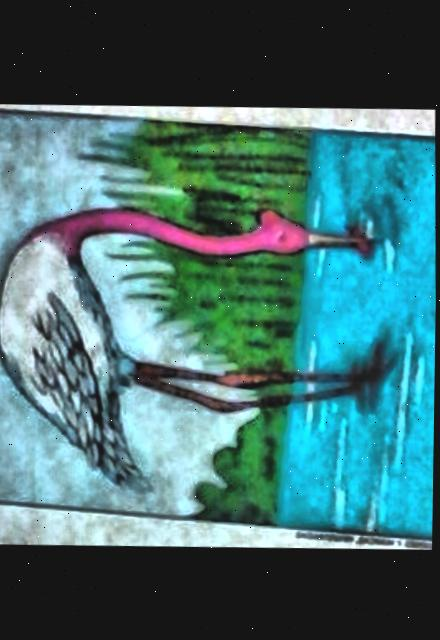La Garza: (0, 113, 436, 535)
